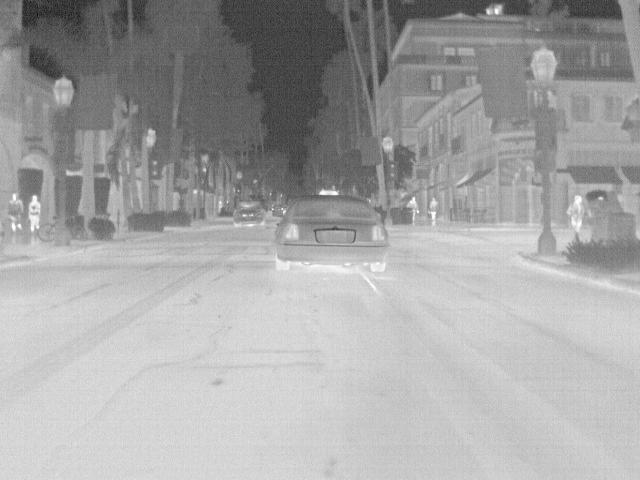car: (270, 182, 382, 264), (233, 198, 265, 226), (271, 204, 285, 220)
person: (565, 192, 584, 242), (8, 191, 22, 238), (28, 193, 40, 236), (408, 193, 420, 223), (428, 196, 440, 224)
